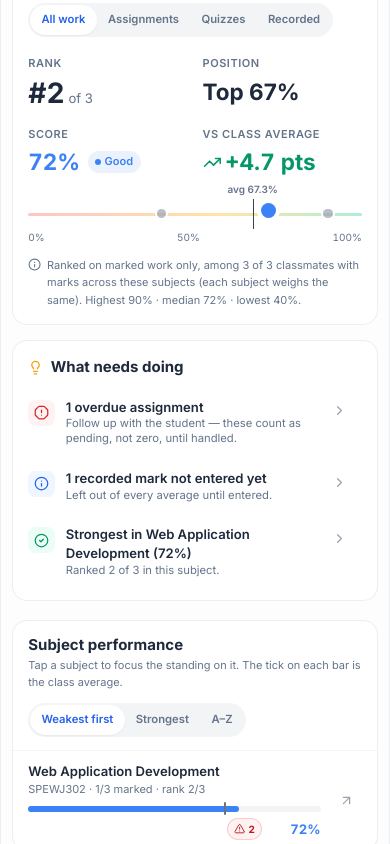
Test: StudentDetails › flags overdue work and deep-links into it
The width and height of the screenshot is (390, 844).
(page scrolled)
Step 1. Click the button "1 overdue assignment" → click(188, 422), box left=21, top=390, right=354, bottom=454
(page scrolled)
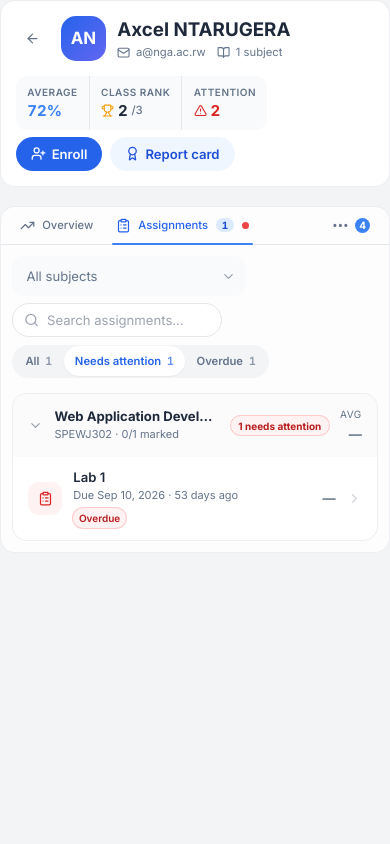
expect the text "Overdue" is shown: met, box left=73, top=508, right=126, bottom=528
expect the tab "Assignments 1" is shown: met, box left=105, top=206, right=261, bottom=244
